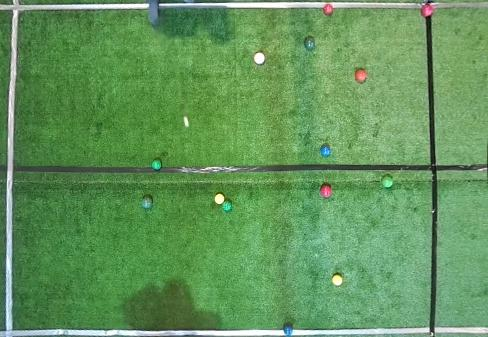blue: (320, 145, 331, 157), (283, 324, 293, 335)
green: (304, 36, 316, 51), (381, 175, 393, 188), (221, 201, 233, 212), (142, 197, 153, 209), (151, 159, 162, 171)
red: (253, 51, 266, 65), (420, 4, 433, 17), (355, 69, 367, 83), (320, 185, 333, 197), (323, 4, 333, 15)
vline: (425, 19, 487, 336), (0, 0, 21, 336)
white: (183, 116, 190, 127)
yellow: (331, 274, 343, 286), (214, 193, 225, 204)
